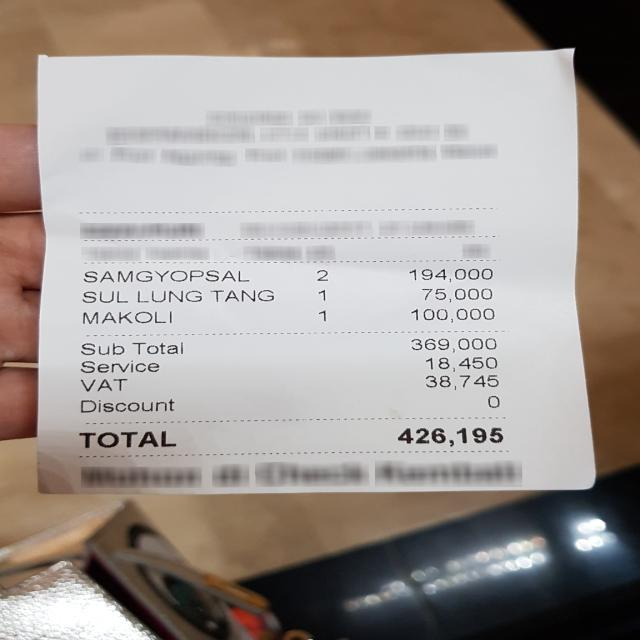kertas: (32, 50, 596, 497)
